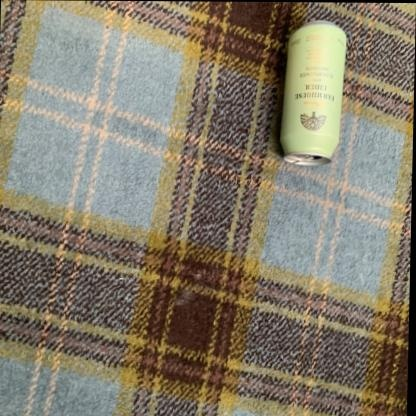trash: (280, 21, 345, 165)
